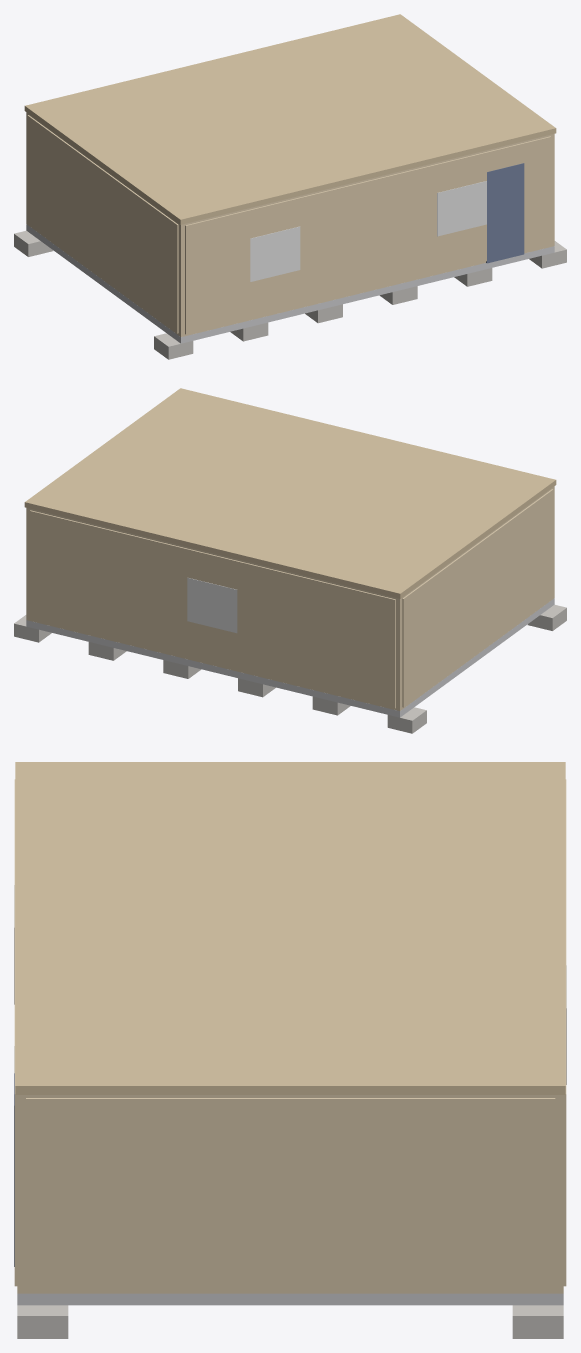
File: Studio-30-Base-LightBrownSand-LOD1.glb
3 views of the same model, one above another, from view 1: azimuth 30°, elevation 25°; view 2: azimuth 150°, elevation 25°; view 3: azimuth 270°, elevation 25° (orthographic). The views are drawn at different scales.
Parts seen in each view (by area): view 1: RoofMain, ExteriorPanelsStandard, WindowsStandard, BaseFrame, FoundationBlocks, EntryDoor, ExteriorShell; view 2: RoofMain, ExteriorPanelsStandard, BaseFrame, FoundationBlocks, ExteriorShell, WindowsStandard; view 3: RoofMain, ExteriorPanelsStandard, BaseFrame, ExteriorShell, FoundationBlocks.
Boxes of the visible parts, left/top/right/bottom form: RoofMain: left=24, top=14, right=556, bottom=224; ExteriorPanelsStandard: left=27, top=115, right=551, bottom=334; WindowsStandard: left=250, top=181, right=486, bottom=281; BaseFrame: left=26, top=224, right=554, bottom=343; FoundationBlocks: left=14, top=230, right=566, bottom=359; EntryDoor: left=486, top=163, right=524, bottom=263; ExteriorShell: left=26, top=112, right=554, bottom=336; RoofMain: left=24, top=388, right=556, bottom=598; ExteriorPanelsStandard: left=30, top=489, right=553, bottom=708; BaseFrame: left=26, top=598, right=554, bottom=717; FoundationBlocks: left=14, top=604, right=566, bottom=733; ExteriorShell: left=26, top=486, right=554, bottom=710; WindowsStandard: left=187, top=577, right=237, bottom=633; RoofMain: left=15, top=762, right=565, bottom=1094; ExteriorPanelsStandard: left=14, top=779, right=566, bottom=1290; BaseFrame: left=17, top=1293, right=563, bottom=1305; ExteriorShell: left=17, top=1095, right=563, bottom=1293; FoundationBlocks: left=17, top=1305, right=563, bottom=1338.
Bounding box in the file's own units: 9.6 × 3.17 × 6.53.
